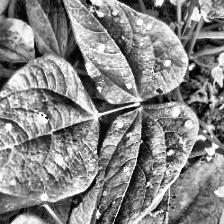Bean Rust: (0, 58, 105, 201), (89, 101, 202, 224), (64, 0, 186, 109), (0, 16, 44, 65)
